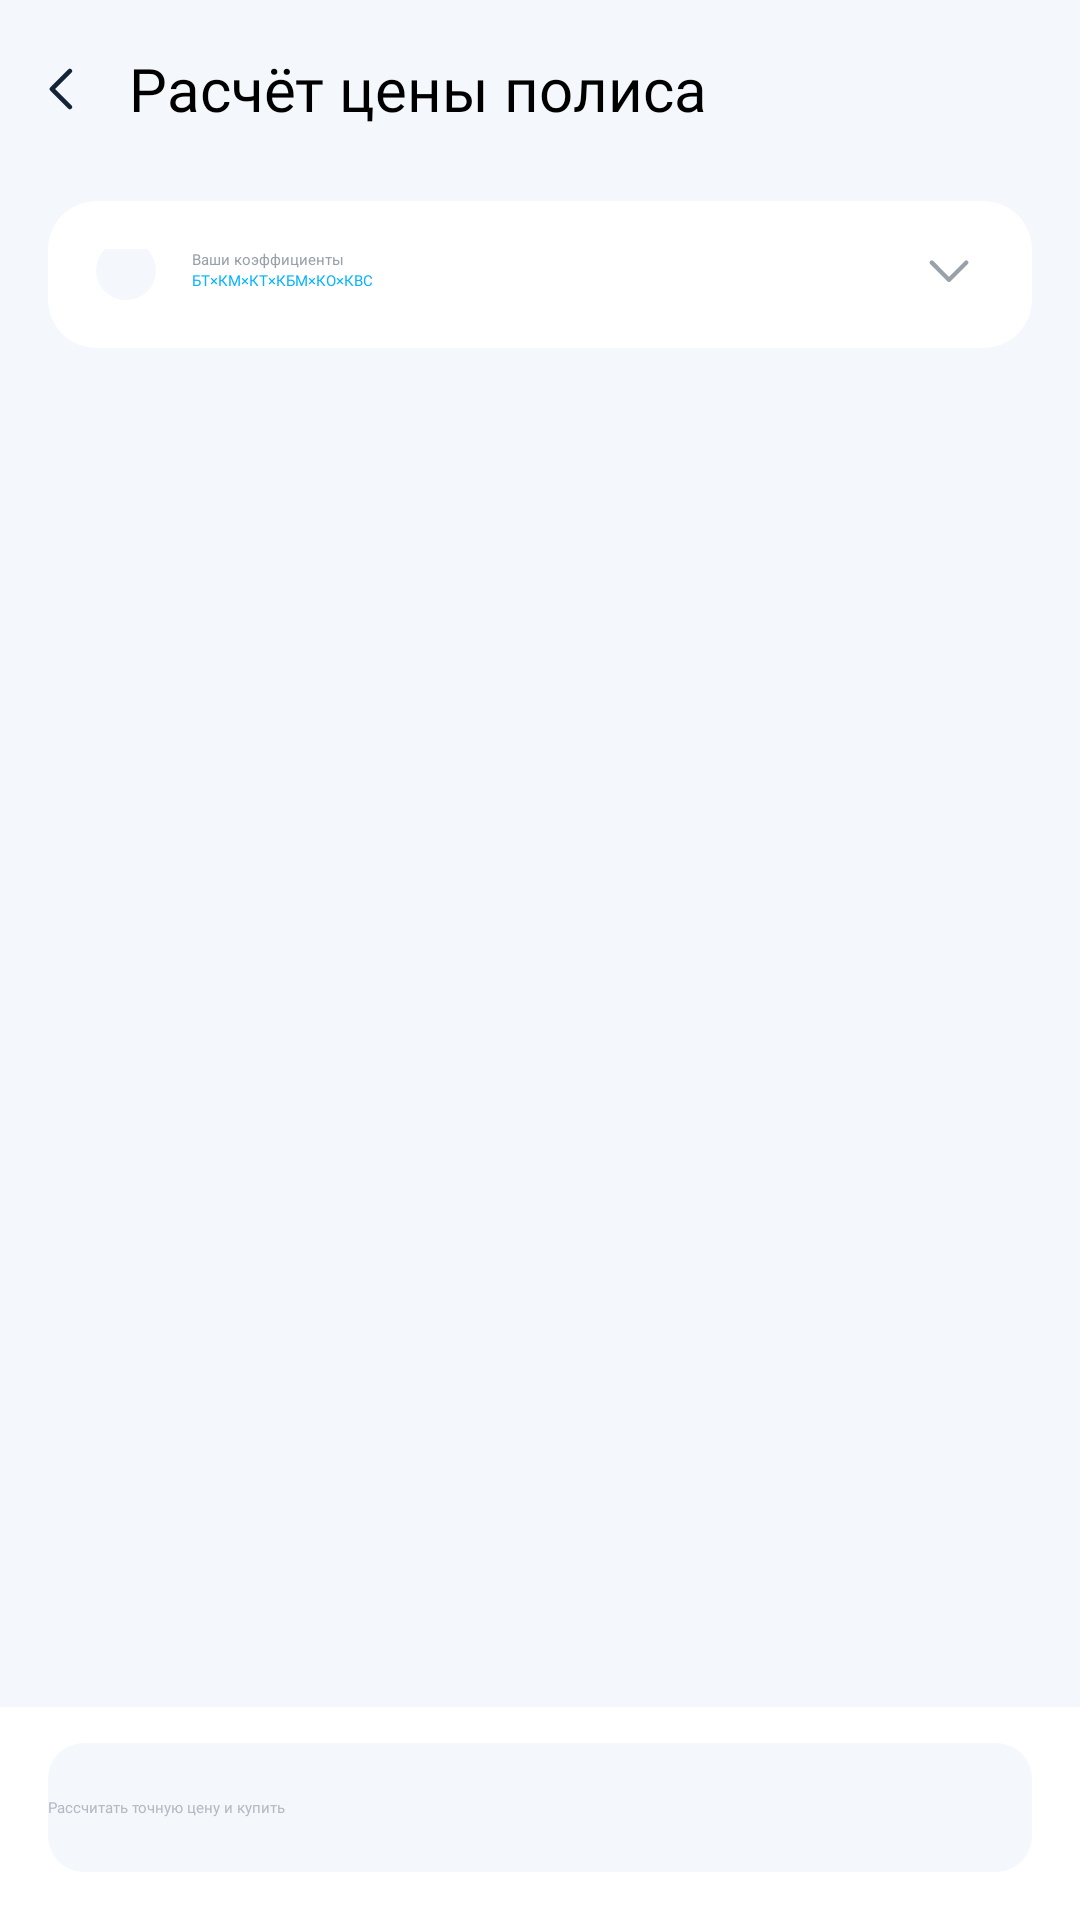

Icon click points for this 1080×1920 phone screenshot, format (x=x, y=y):
back: (x=61, y=89)
expand more: (x=949, y=271)
